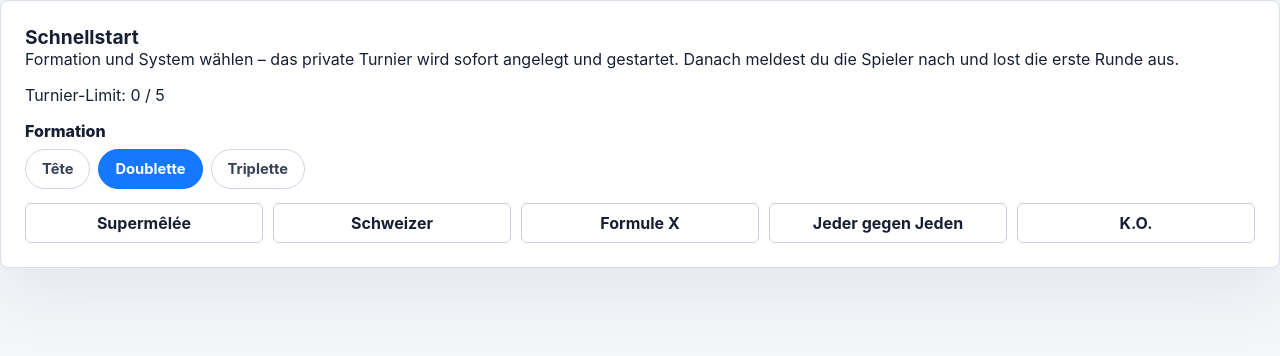
Test case: Schnellstart › weist darauf hin, wenn nur der Start scheitert, und lädt die Turniere neu
Click the button "Schweizer": x=392, y=223 [273,203,511,243]
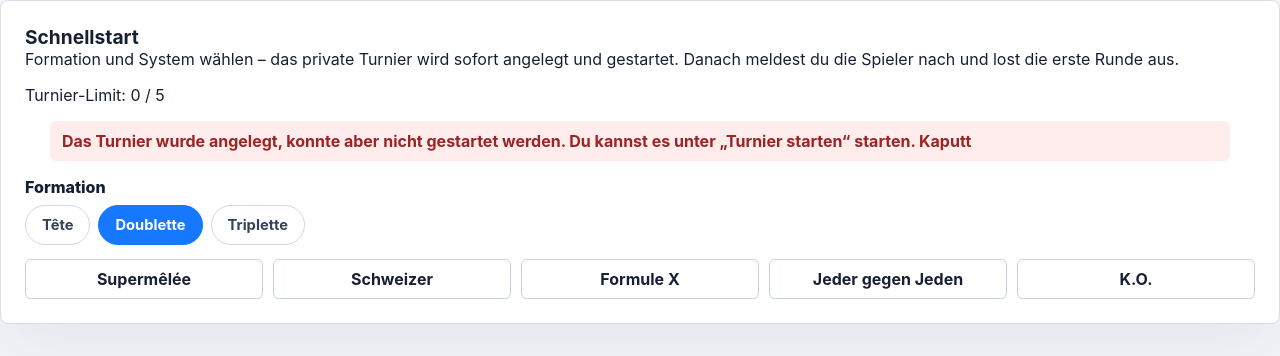
Result: the message shows "Das Turnier wurde angelegt, konnte aber nicht gestartet werden." at [62,131,971,151]
